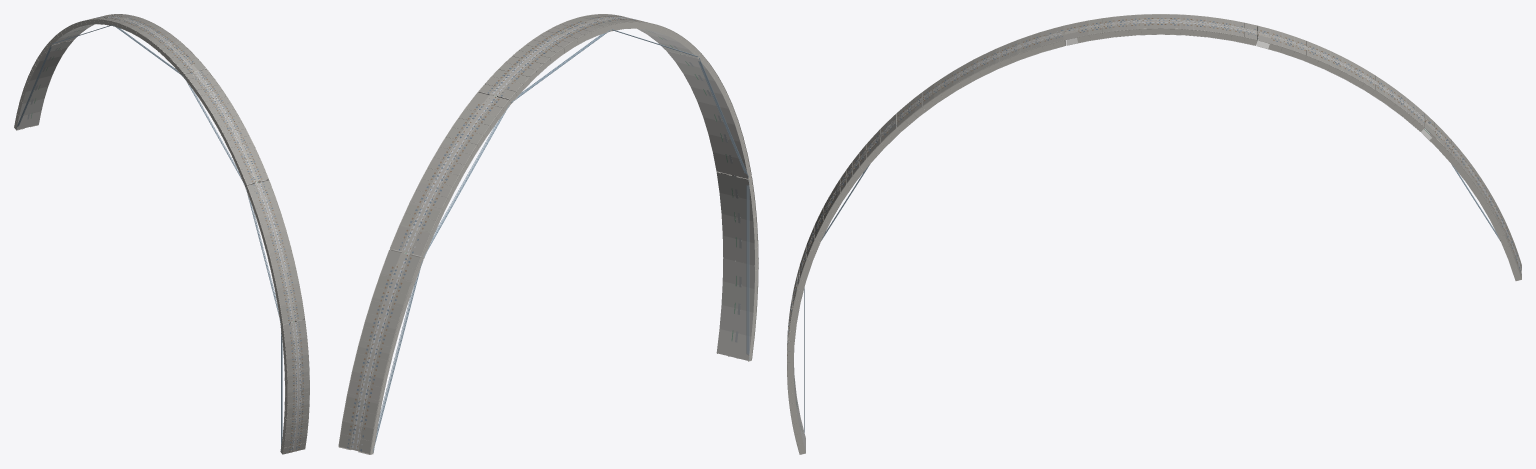
The model's file is xuanshu_interior_C15.glb.
3 renders of one model, left to right at view 1: azimuth 30°, elevation 25°; view 2: azimuth 150°, elevation 25°; view 3: azimuth 270°, elevation 25°, orthographic. The views are drawn at different scales.
Parts seen in each view (by area): view 1: UNIT-HAB-002, UNIT-HAB-001; view 2: UNIT-HAB-001, UNIT-HAB-002; view 3: UNIT-HAB-001, UNIT-HAB-002.
Part boxes in pixels (x1,y1,x2,y2): UNIT-HAB-002: (184, 68, 309, 454); UNIT-HAB-001: (14, 14, 206, 130); UNIT-HAB-001: (338, 17, 611, 454); UNIT-HAB-002: (581, 14, 758, 361); UNIT-HAB-001: (1064, 14, 1521, 280); UNIT-HAB-002: (787, 25, 1065, 454).
Size of the model in its own units: 17.31 by 233 by 364.
